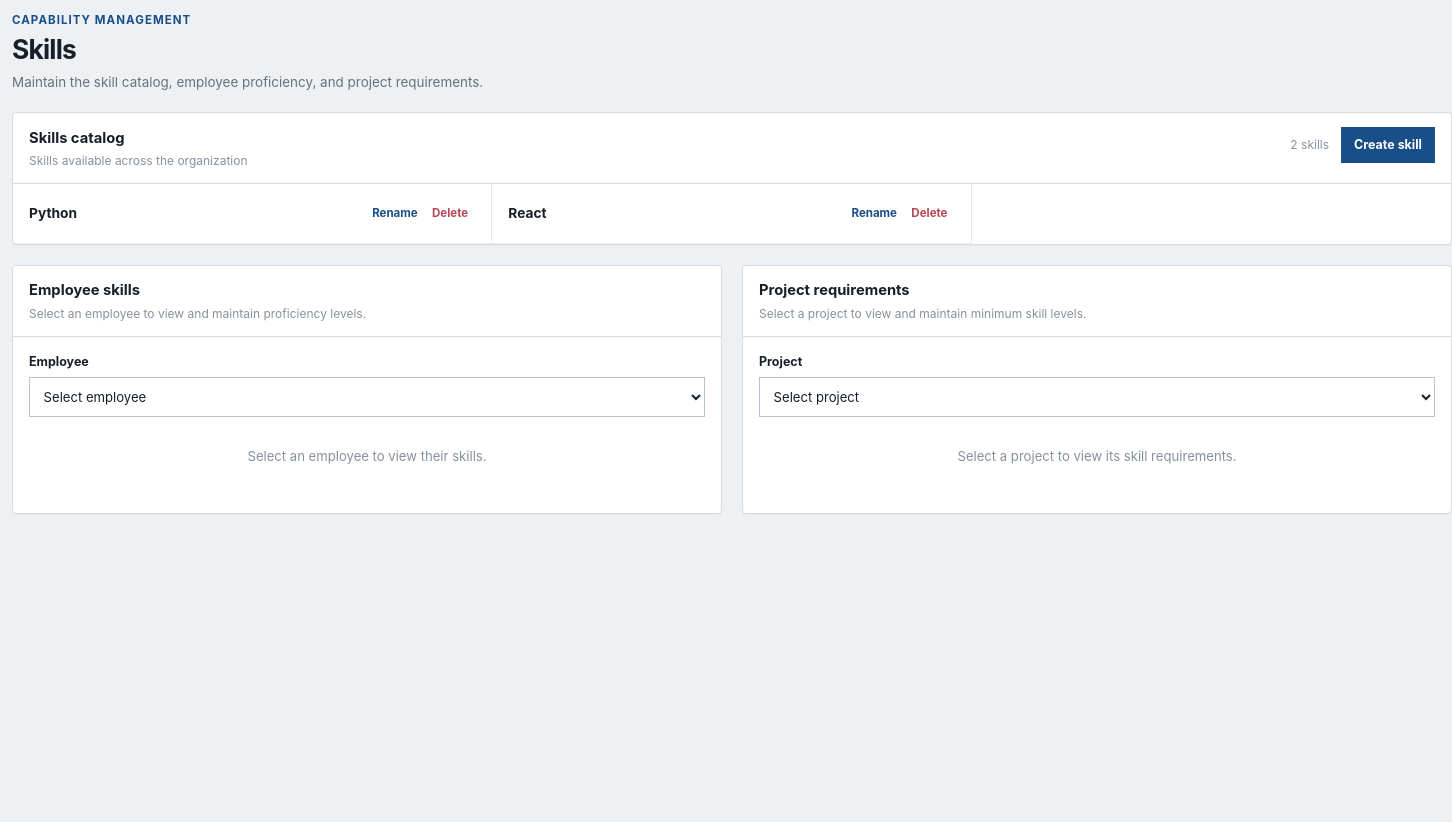
Scenario: SkillsPage › creates a catalog skill and shows success feedback
Expected: the text "Python" is shown, [29,203,77,224]
Click the button "Create skill": (1388, 145) [1341,127,1435,163]
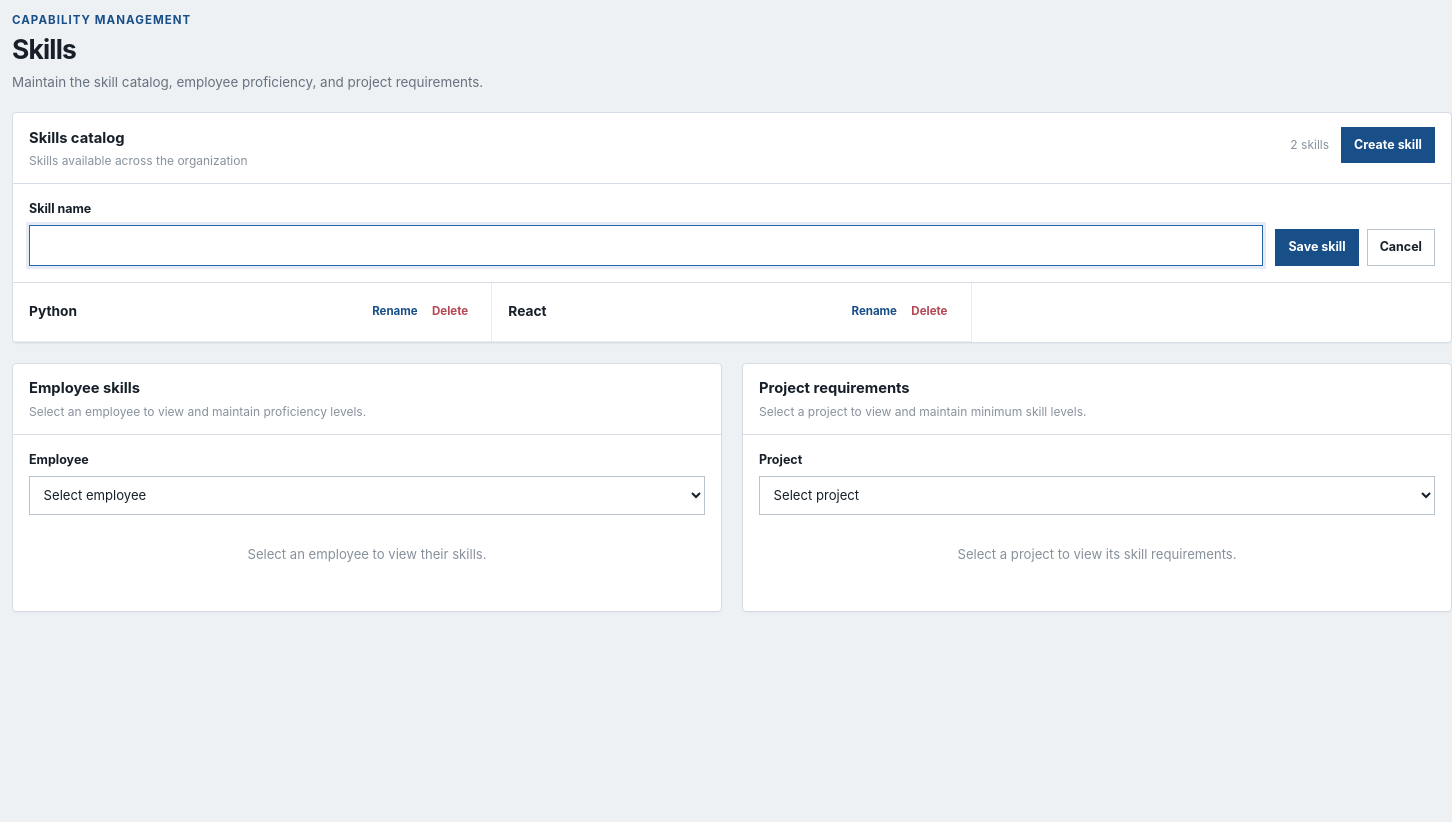
In the field labelled "Skill name": (646, 245) [29,225,1263,266], type " SQL "
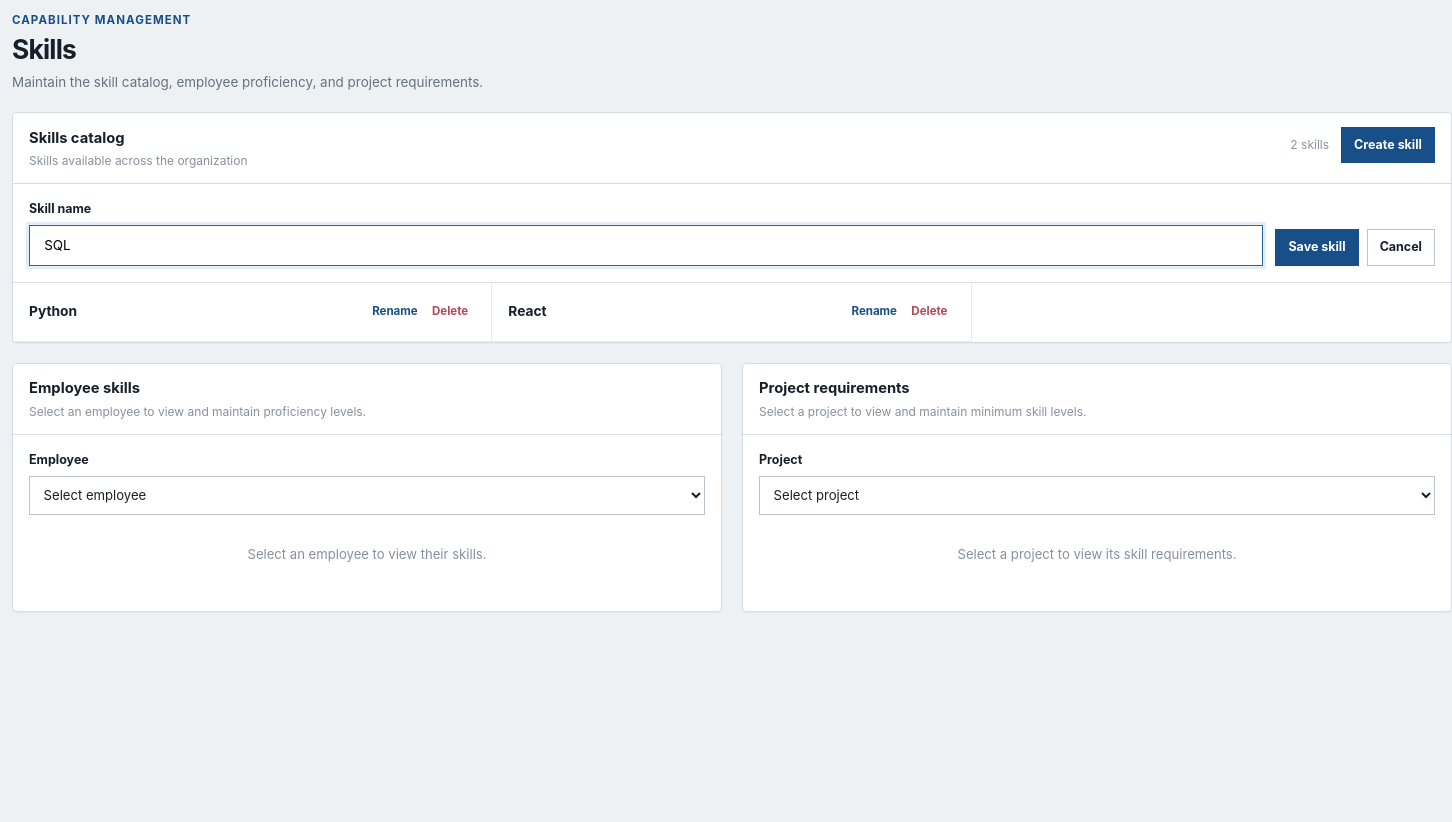
Click the button "Save skill": (1317, 247) [1275,229,1359,266]
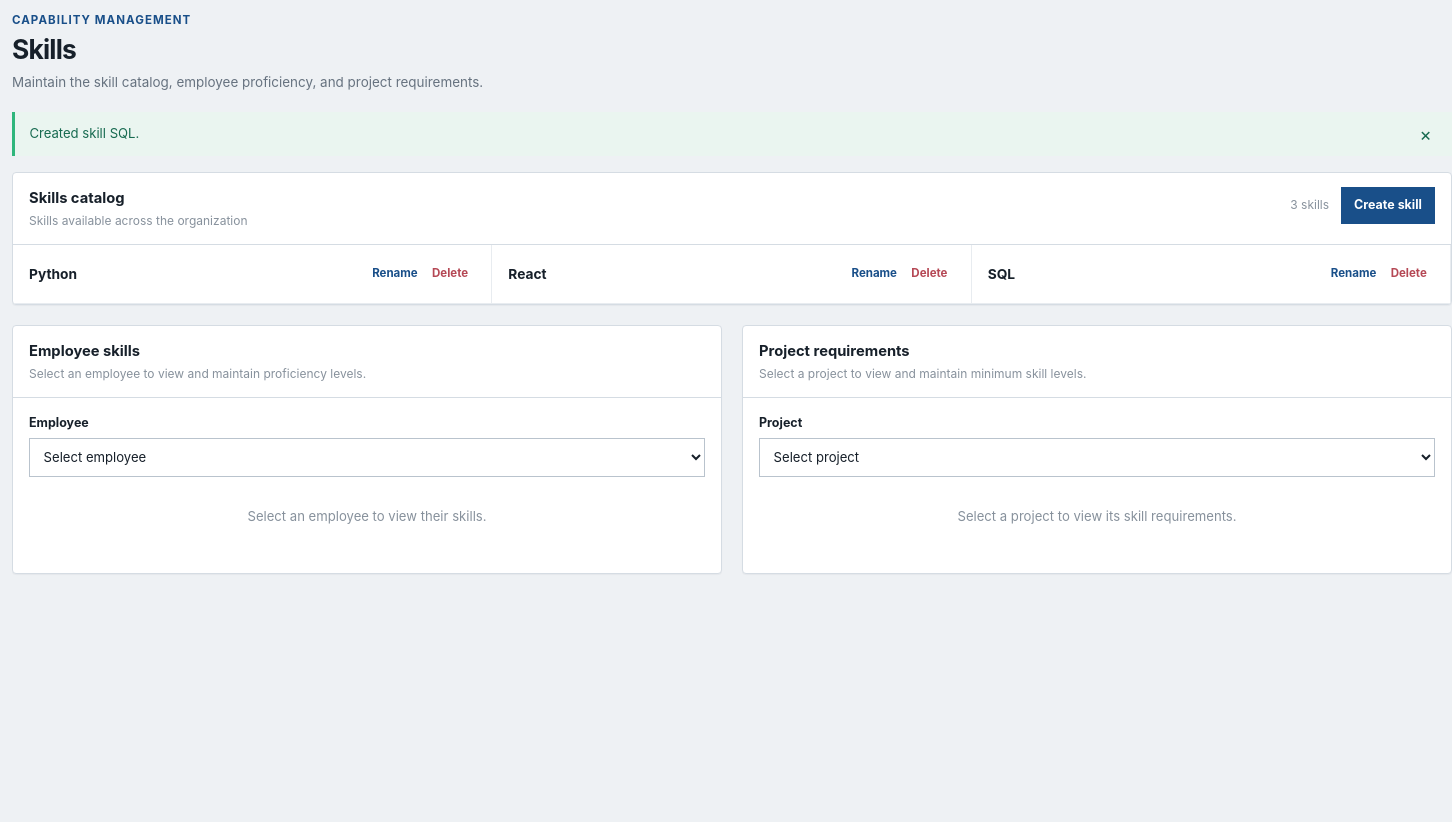
Expected: the text "SQL" is shown, [988,264,1015,284]
Expected: the message shows "Created skill SQL.", [29,125,139,141]
